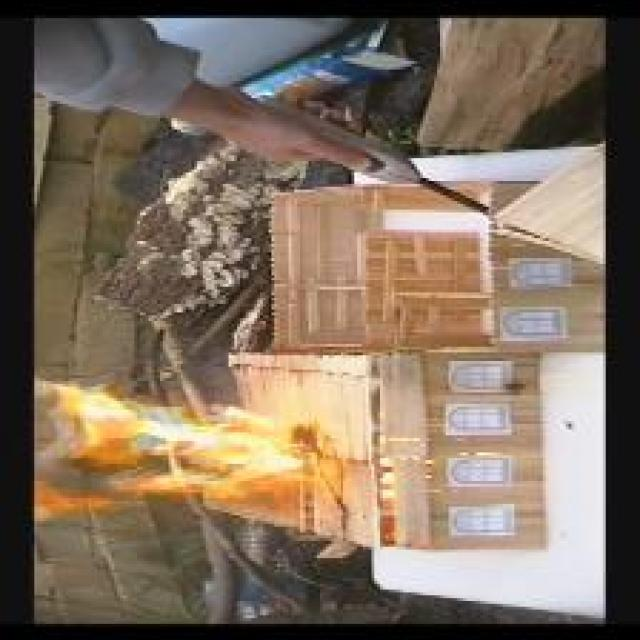Fire: (33, 384, 344, 518)
